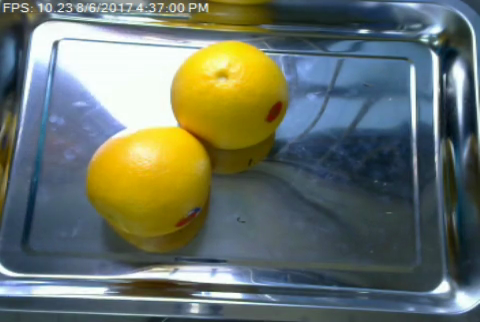Orange: (84, 123, 210, 238), (170, 41, 290, 151)
